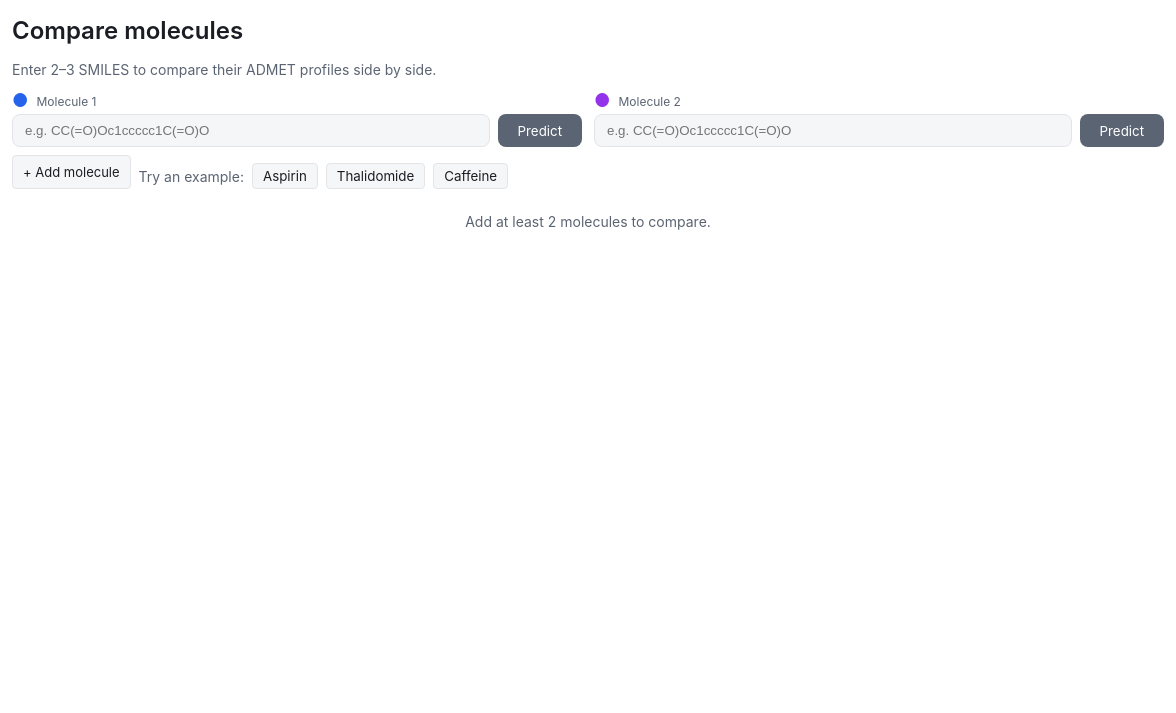
Test: ComparePage › fetches each molecule in parallel and renders the overlaid radar plus the 16-task table
Type "CC(=O)Oc1ccccc1C(=O)O" into the field labelled "SMILES string" below "Molecule 1".
click(251, 131); type("CC(=O)Oc1ccccc1C(=O)O")  # box [12,114,490,147]
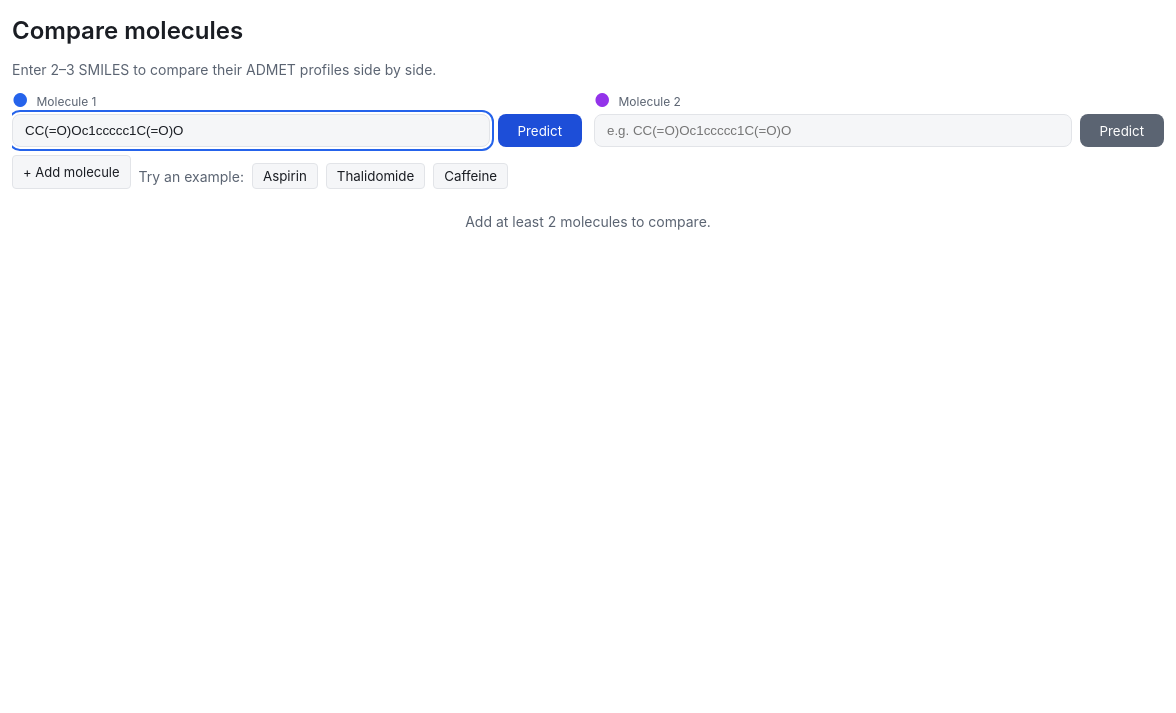
Press Enter
Type "Cn1cnc2c1c(=O)n(C)c(=O)n2C" into the field labelled "SMILES string" below "Molecule 2".
click(833, 131); type("Cn1cnc2c1c(=O)n(C)c(=O)n2C")  # box [594,114,1072,147]
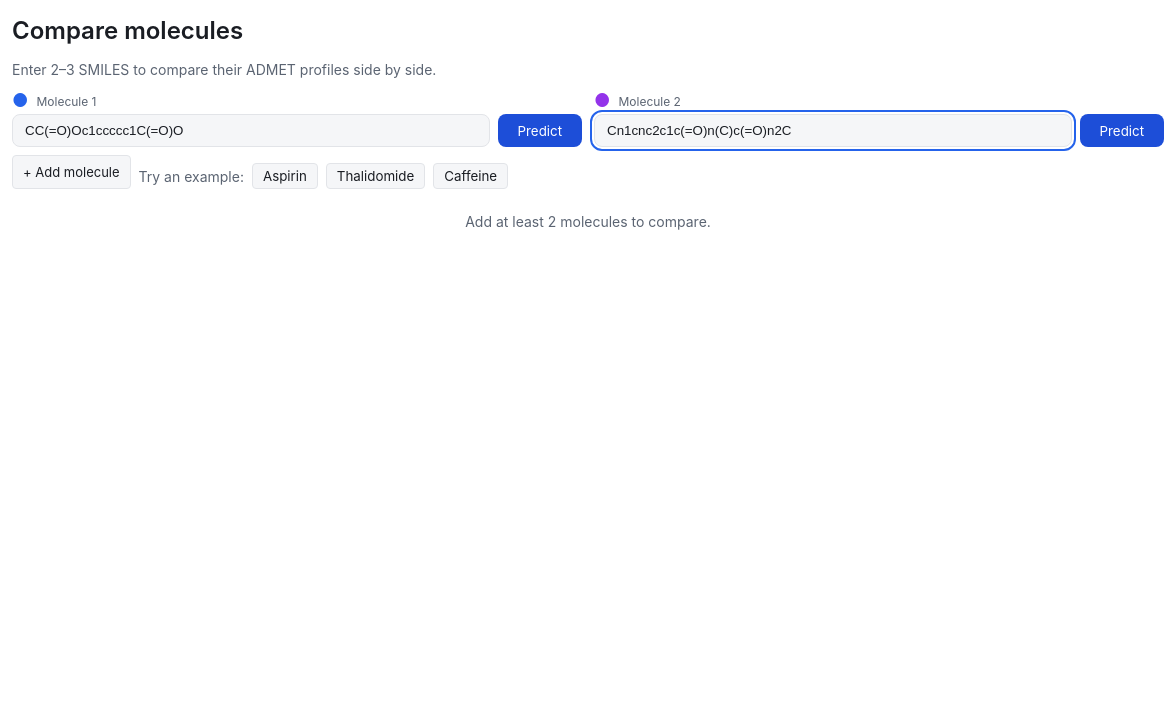
Press Enter
(page scrolled)
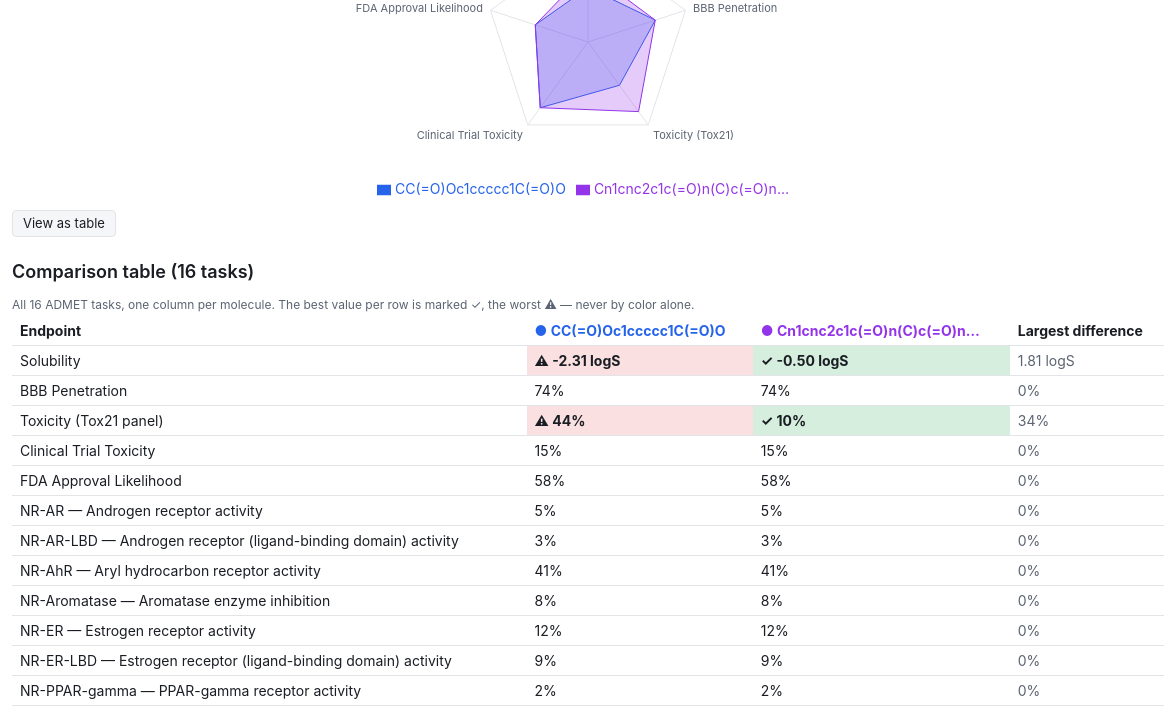
Check: the heading "Comparison table (16 tasks)" is shown, box [12,261,254,282]
Check: the column heading "NR-AR — Androgen receptor activity" is shown, box [12,496,526,526]
